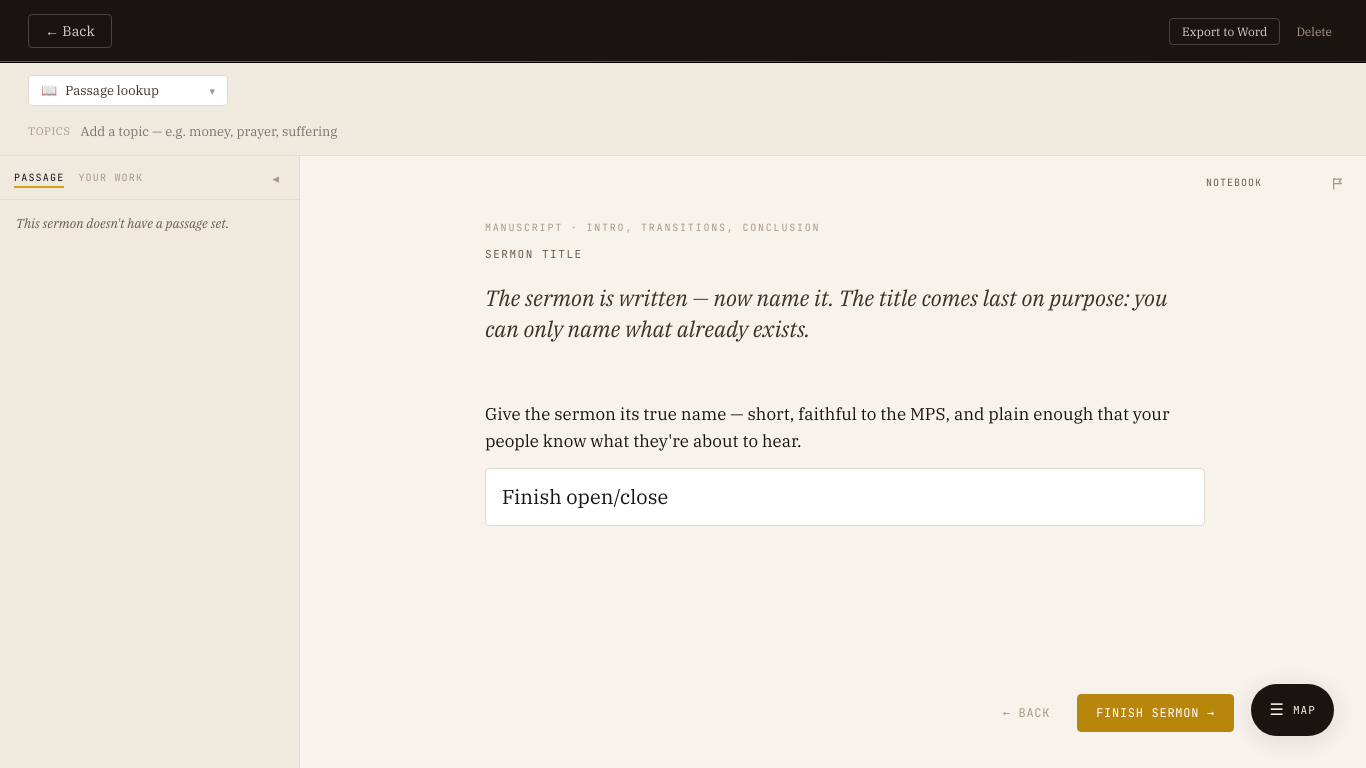
Track D ⑤ pin — Finish screen › opens from the terminal forward control and closes via dismiss (#5)
This screenshot has width=1366, height=768.
Click the button with class "is-finish" at (1156,713), box [1077,694,1234,732]
(page scrolled)
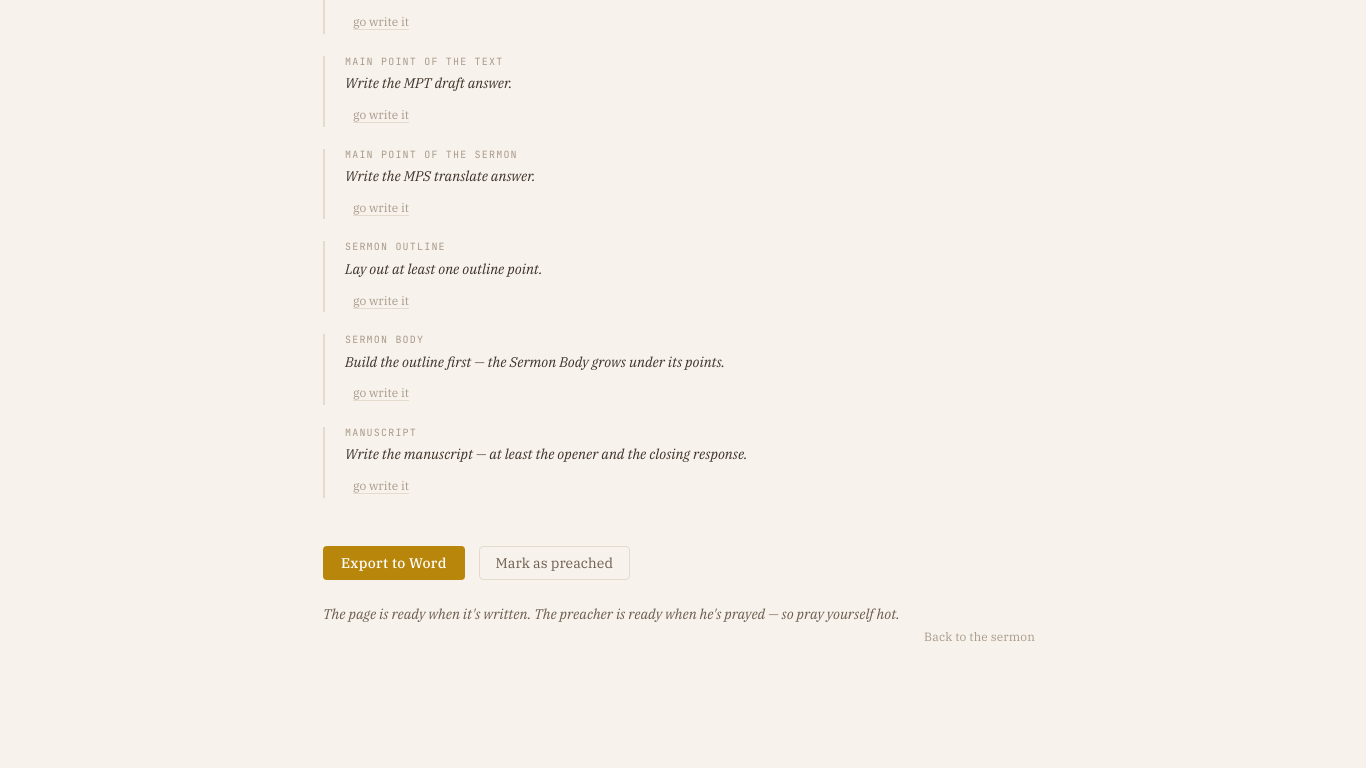
Check: the dialog with class "sfin-overlay" is shown
Click the button with class "sfin-dismiss" at (980,636), box [916,625,1043,648]
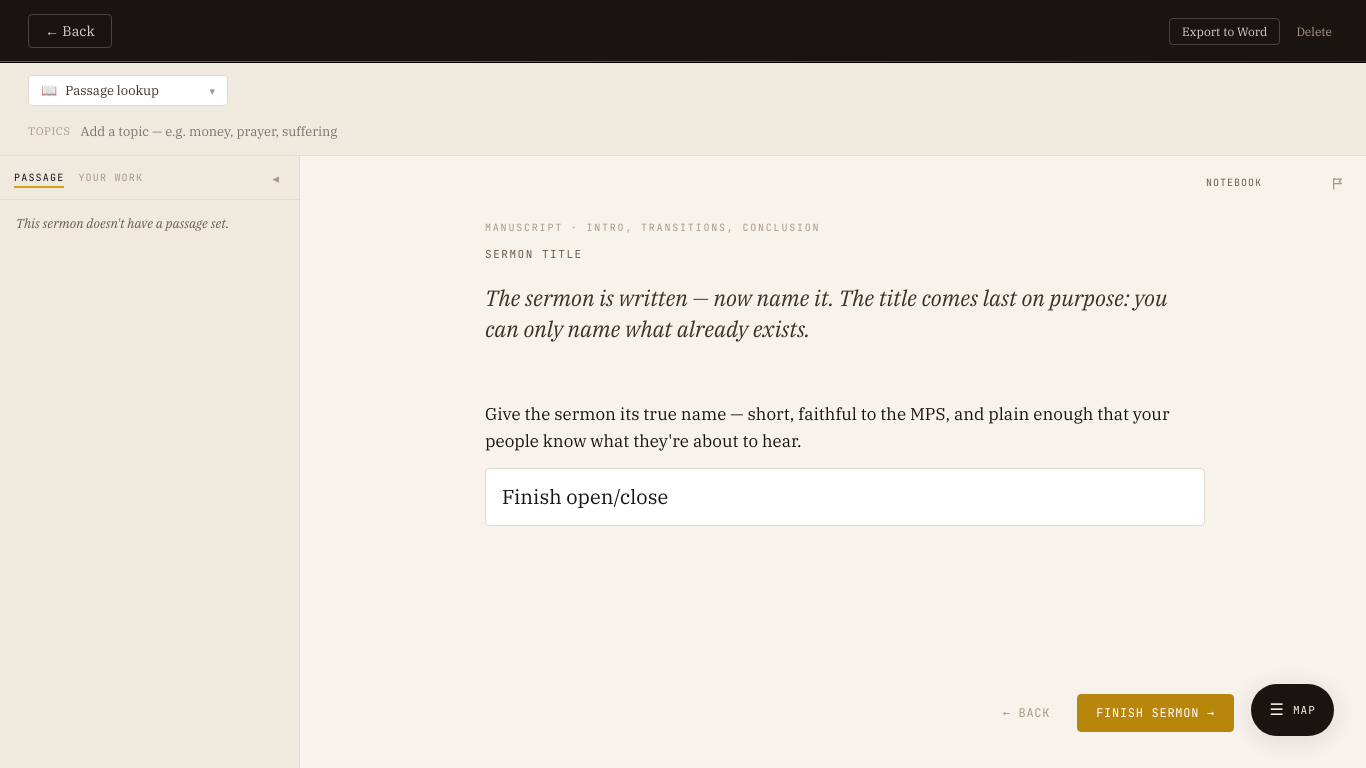
Check: the dialog with class "sfin-overlay" is gone
